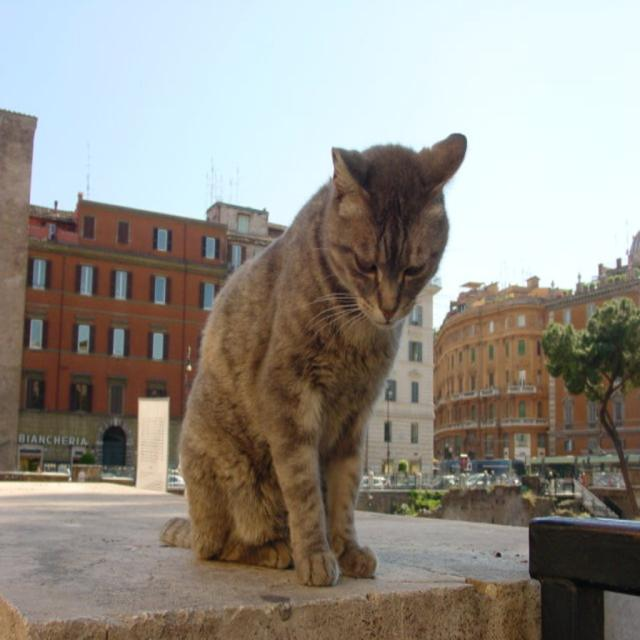Cat: (158, 130, 463, 594)
